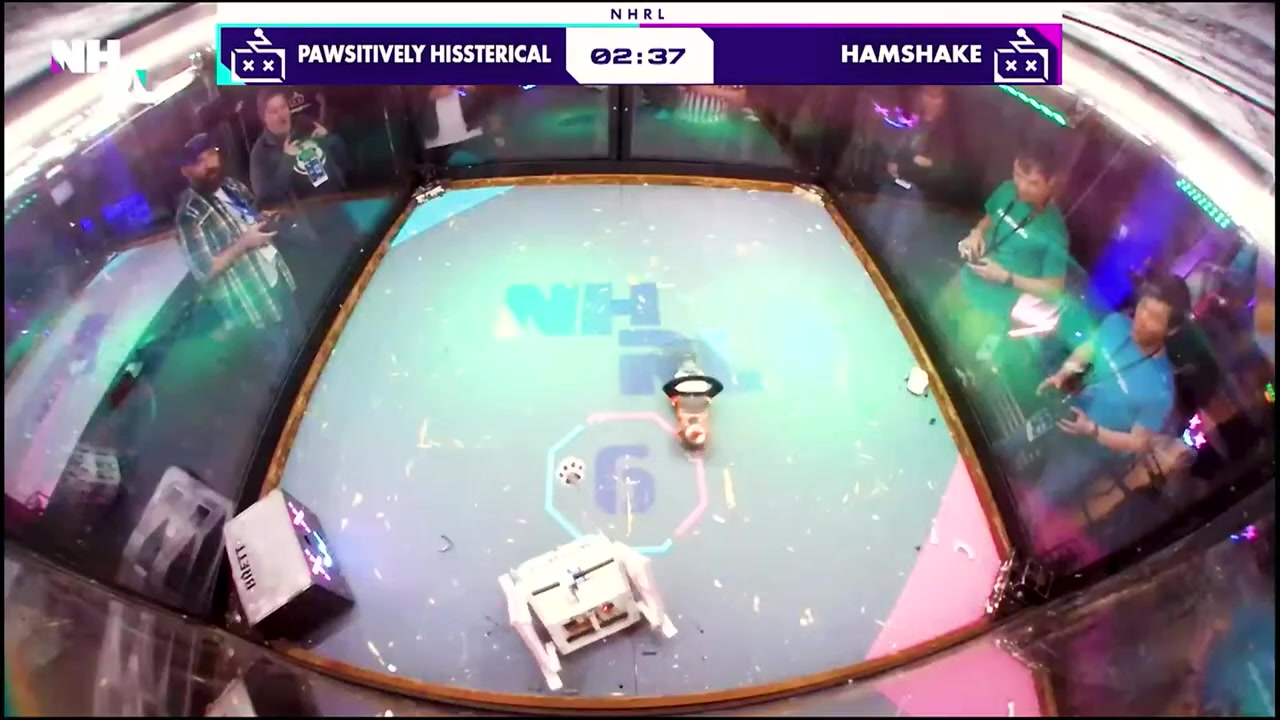combatbot: (498, 529, 679, 690), (663, 355, 723, 448)
debris: (905, 370, 929, 394)
housebot: (220, 487, 355, 643)
